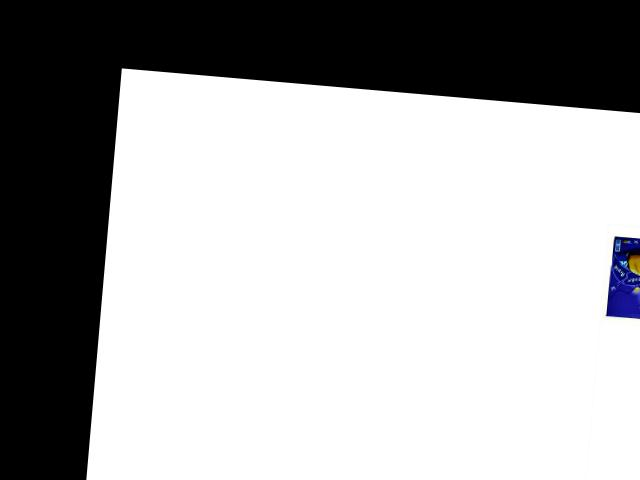chocolate: (602, 230, 640, 327)
